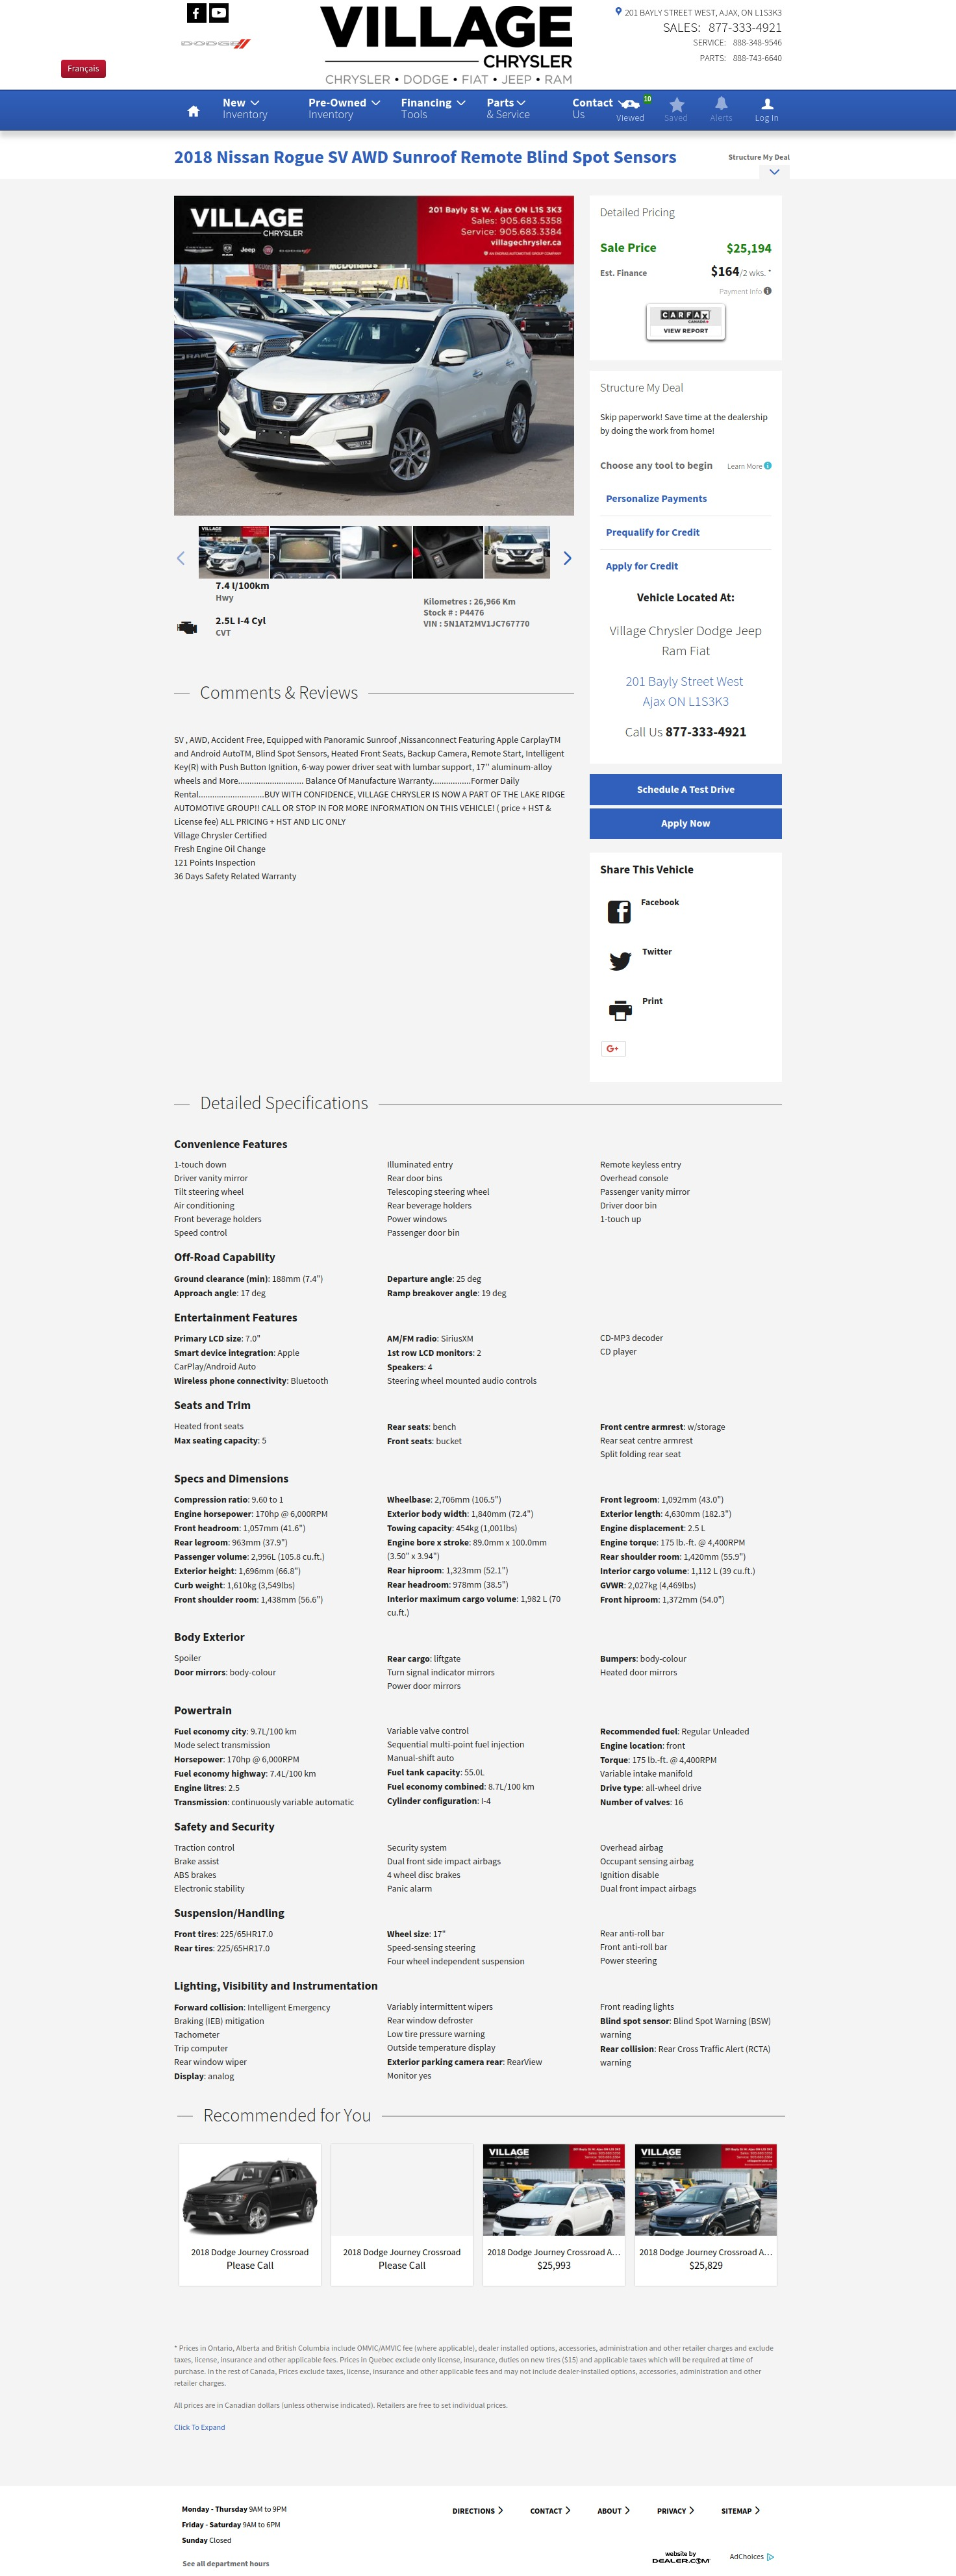car: (563, 552, 572, 565)
